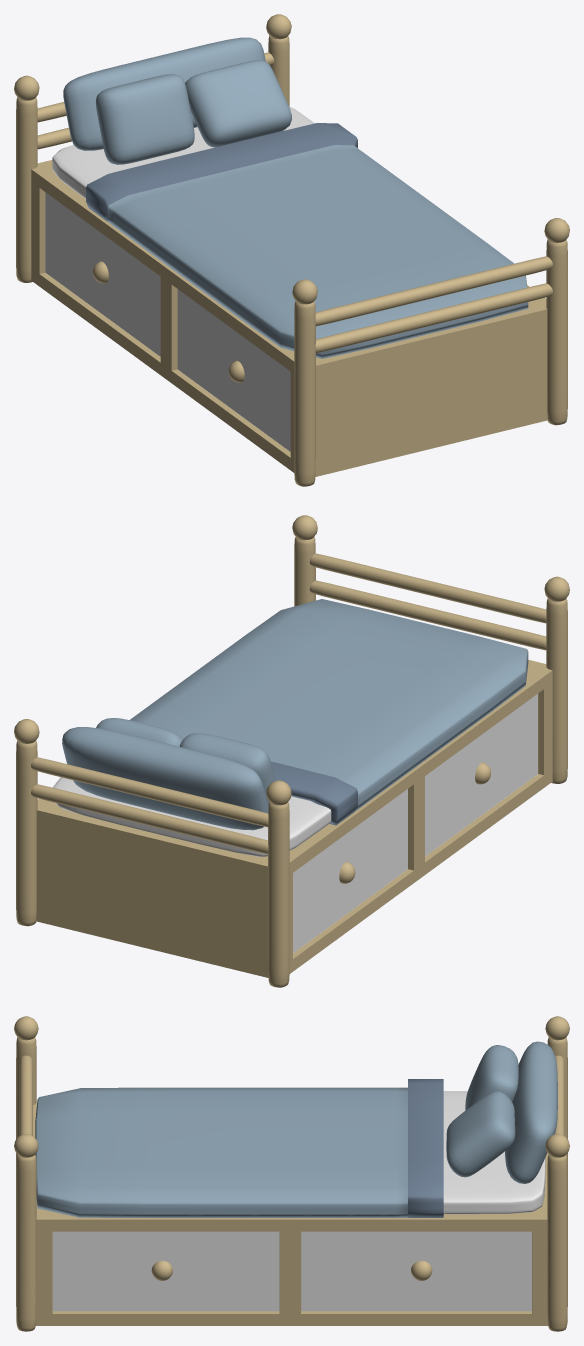
The model's file is Cama.fbx.
3 views of the same model, one above another, from view 1: azimuth 30°, elevation 25°; view 2: azimuth 150°, elevation 25°; view 3: azimuth 270°, elevation 25° (orthographic). The views are drawn at different scales.
Parts seen in each view (by area): view 1: cama, Cube.008, Sphere.001, almohadagrande.002, almohadagrande.003, almohadagrande.001, Cube.009; view 2: cama, Cube.008, Sphere.001, almohadagrande.001, Cube.009, almohadagrande.002, almohadagrande.003; view 3: cama, Cube.008, Sphere.001, almohadagrande.001, Cube.009, almohadagrande.003, almohadagrande.002.
Part boxes in pixels (x1=…): cama: x1=31, y1=160, x2=547, y2=476; Cube.008: x1=86, y1=123, x2=528, y2=358; Sphere.001: x1=14, y1=14, x2=569, y2=486; almohadagrande.002: x1=95, y1=74, x2=194, y2=164; almohadagrande.003: x1=185, y1=60, x2=291, y2=147; almohadagrande.001: x1=63, y1=37, x2=265, y2=150; Cube.009: x1=52, y1=106, x2=314, y2=198; cama: x1=36, y1=660, x2=552, y2=977; Cube.008: x1=129, y1=599, x2=528, y2=825; Sphere.001: x1=14, y1=515, x2=569, y2=987; almohadagrande.001: x1=62, y1=727, x2=268, y2=830; Cube.009: x1=53, y1=777, x2=331, y2=856; almohadagrande.002: x1=180, y1=733, x2=275, y2=805; almohadagrande.003: x1=96, y1=718, x2=183, y2=746; cama: x1=33, y1=1102, x2=548, y2=1325; Cube.008: x1=35, y1=1079, x2=443, y2=1217; Sphere.001: x1=14, y1=1016, x2=569, y2=1331; almohadagrande.001: x1=505, y1=1041, x2=557, y2=1183; Cube.009: x1=443, y1=1091, x2=545, y2=1214; almohadagrande.003: x1=446, y1=1091, x2=515, y2=1177; almohadagrande.002: x1=465, y1=1045, x2=518, y2=1110.
Size of the model in its own units: 70.26 by 49.73 by 129.
